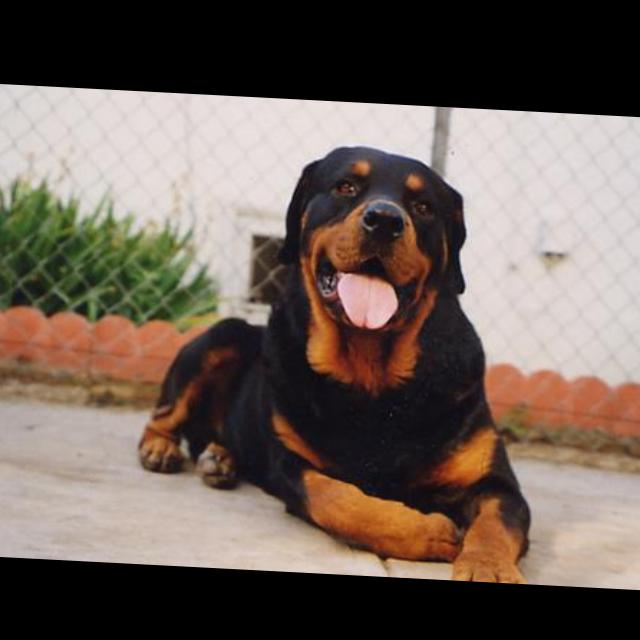rottweiler: (140, 132, 537, 579)
